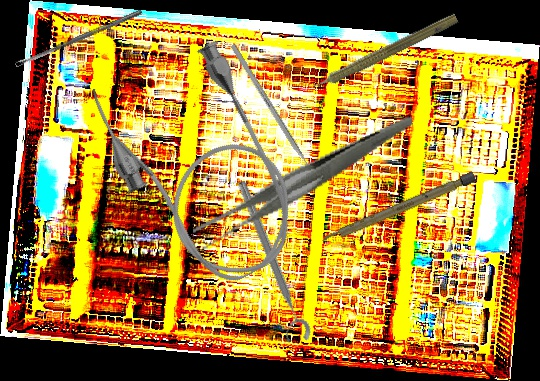Cannula: (77, 27, 322, 307)
Dressing Forceps: (179, 115, 429, 252)
Fixation Ring: (223, 178, 315, 348)
Handpiece: (301, 7, 460, 99)
Pusher: (229, 43, 324, 189)
Scalpel Handle: (320, 171, 477, 246)
Surgical Spoon: (14, 8, 143, 68)
